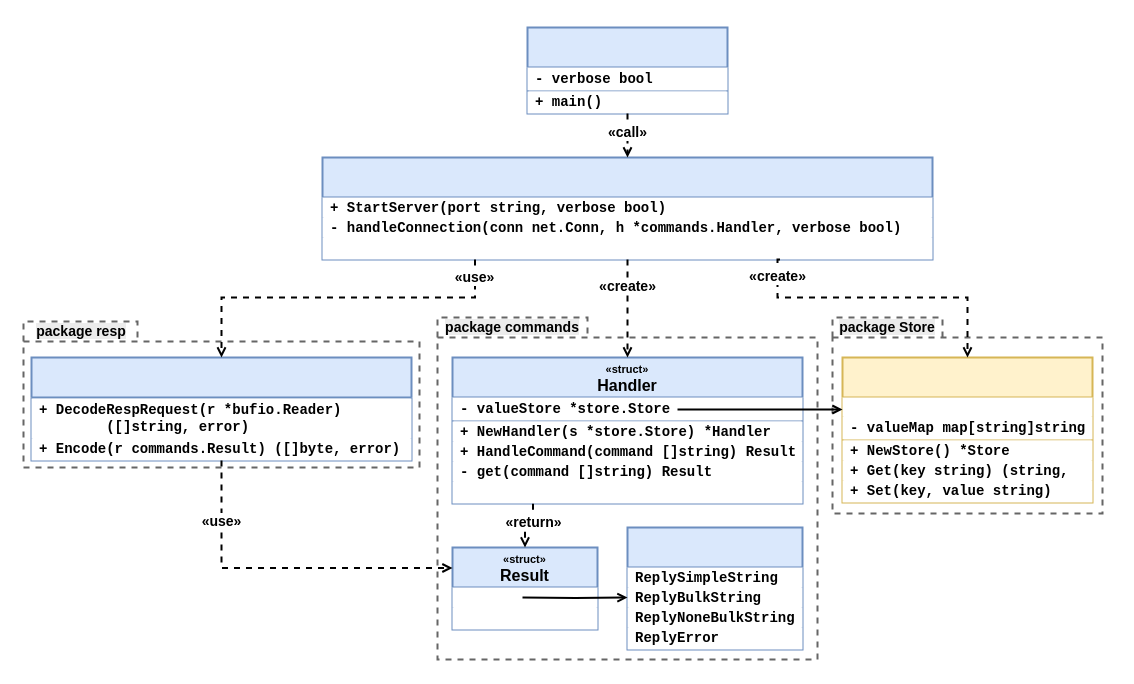
Image size: 1134x684. Some labels were removed from this diagram. The shapes that lost their labels are listed below. From the top down, each one's box as (x1, y1, x2, y2) in pixels, then its label:
(526, 26, 728, 114): «package» main
(321, 156, 933, 260): «package» server
(322, 237, 932, 259): - connectionReadLoop(conn net.Conn, h *commands.Handler, verbose bool)
(30, 356, 412, 461): «package» Resp
(842, 397, 1092, 416): - mu sync.RWMutex
(841, 356, 1093, 503): «struct» Store
(452, 481, 802, 503): - set(command []string) Result
(452, 587, 597, 607): + Kind ResultKind
(626, 526, 803, 650): «enumeration» ResultKind
(452, 607, 597, 629): + Value string
